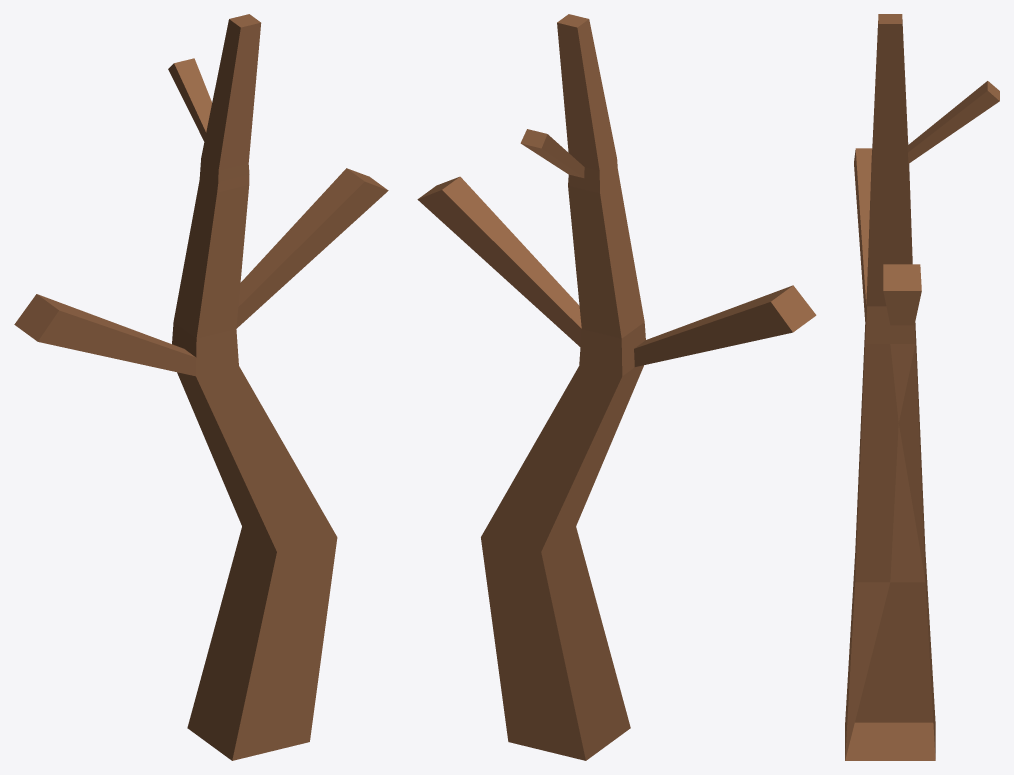
Rendered from tree-winter-trunk-004.glb.
3 views of the same model, side by side, from view 1: azimuth 30°, elevation 25°; view 2: azimuth 150°, elevation 25°; view 3: azimuth 270°, elevation 25° (orthographic).
Visible parts, largest first — view 1: Circle.042_122; view 2: Circle.042_122; view 3: Circle.042_122.
Boxes of the visible parts, x1=… form: Circle.042_122: x1=14, y1=14, x2=388, y2=760; Circle.042_122: x1=417, y1=14, x2=816, y2=760; Circle.042_122: x1=845, y1=14, x2=999, y2=760.
Bounding box in the file's own units: 0.7892 × 1.48 × 0.2868.
